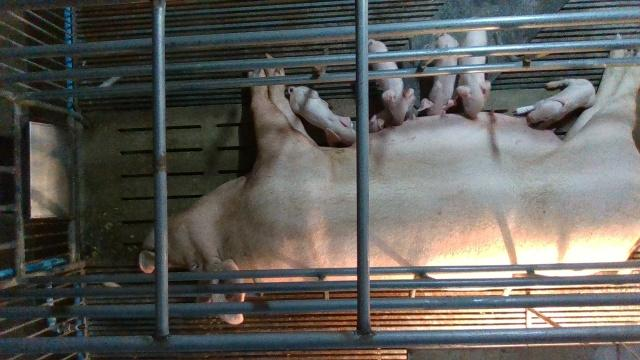piglet: (285, 84, 358, 147), (368, 38, 416, 126), (515, 78, 595, 128), (417, 32, 457, 118), (459, 30, 492, 120)
sow-sleep-lactate: (138, 48, 640, 325)
